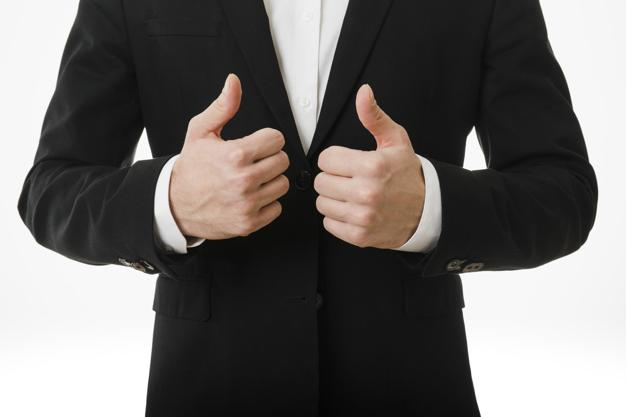thumbsup: (204, 73, 290, 236), (314, 83, 398, 249)
